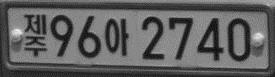0: (227, 17, 252, 62)
2: (140, 14, 165, 60)
4: (196, 16, 224, 61)
6: (76, 14, 102, 59)
7: (167, 15, 193, 59)
9: (49, 14, 74, 57)
아: (103, 17, 129, 56)
제주_V: (21, 13, 48, 56)
